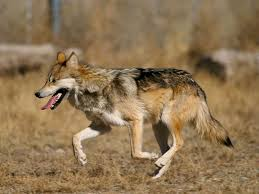Lobo: (35, 43, 234, 173)
